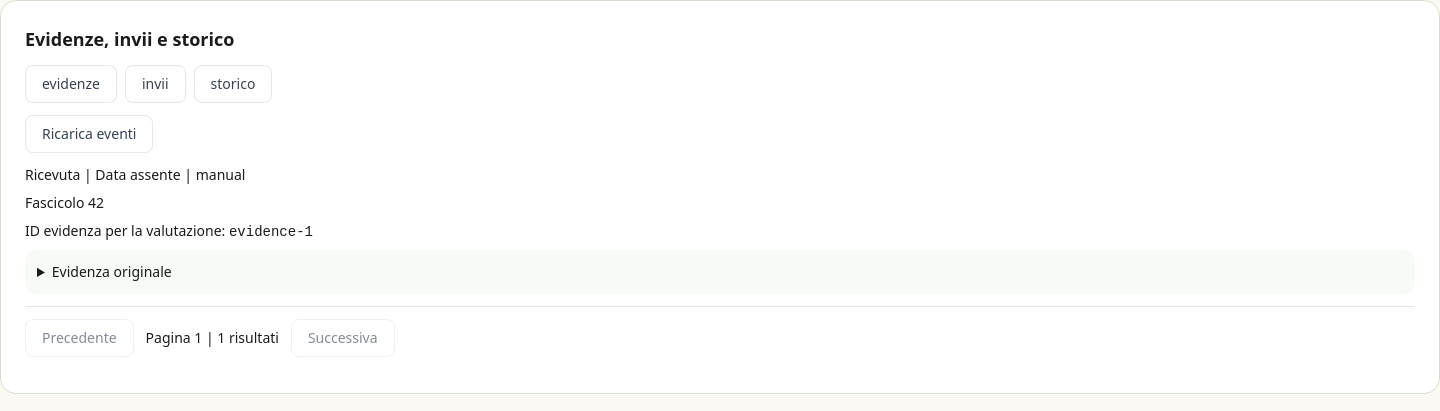
shows undated evidence and attempts with known dates and tracking
Expected: the text "Ricevuta | Data assente | manual" is shown, [25,165,245,184]
What coordinates should you click on to do the following:
click the button "invii"
I would click on:
 (155, 84)
Its box is [125,65,186,103].
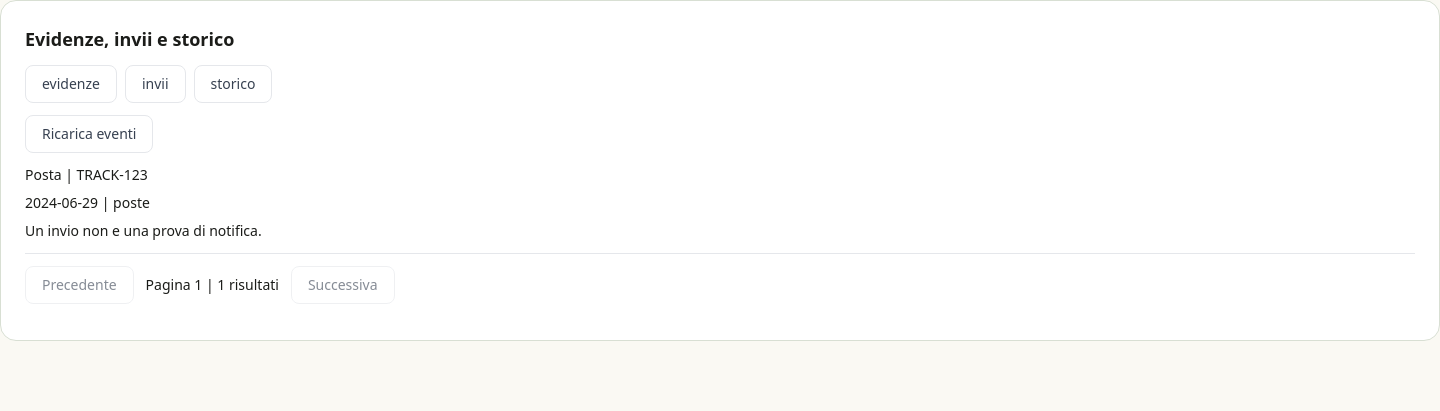
Now the text "Posta | TRACK-123" is shown, box [25,165,148,184]
Now the text "2024-06-29 | poste" is shown, box [25,193,150,212]
